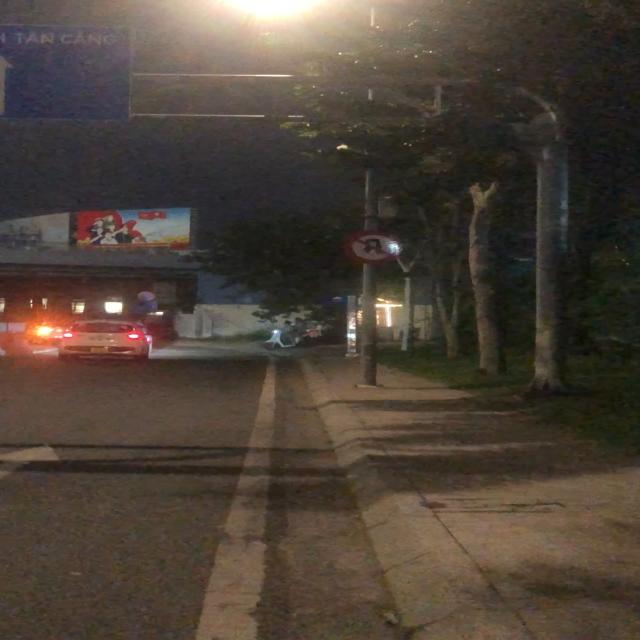Bien bao cam quay dau xe: (341, 228, 405, 266)
